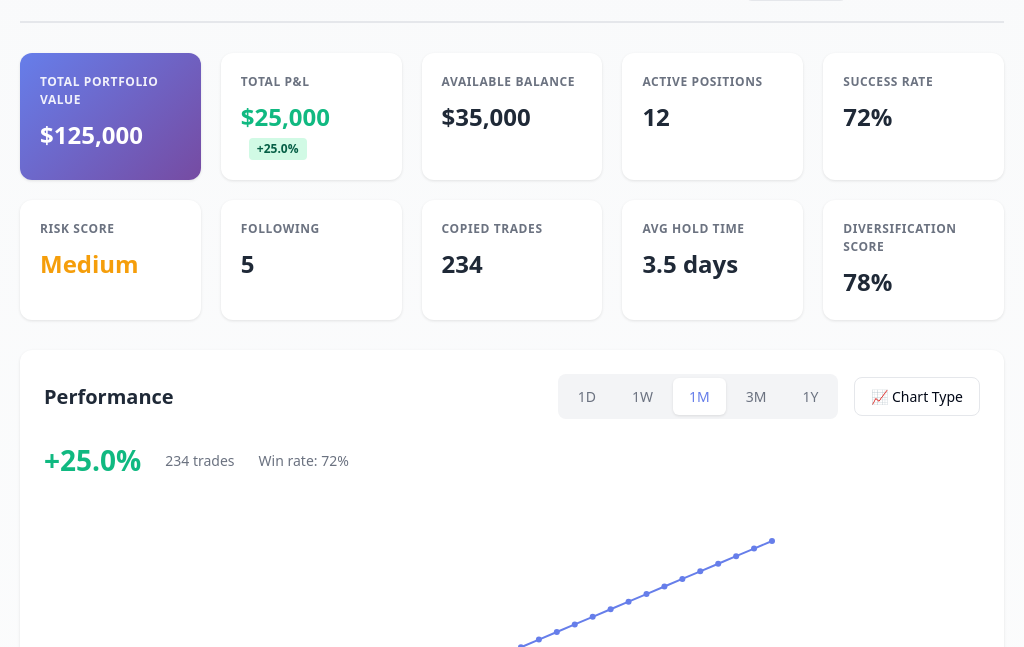
Test: PortfolioAnalytics › Filtering and Controls › should toggle between chart types
Click the button "📈 Chart Type" at [917, 396], box top-left (854, 377), bottom-right (980, 416)
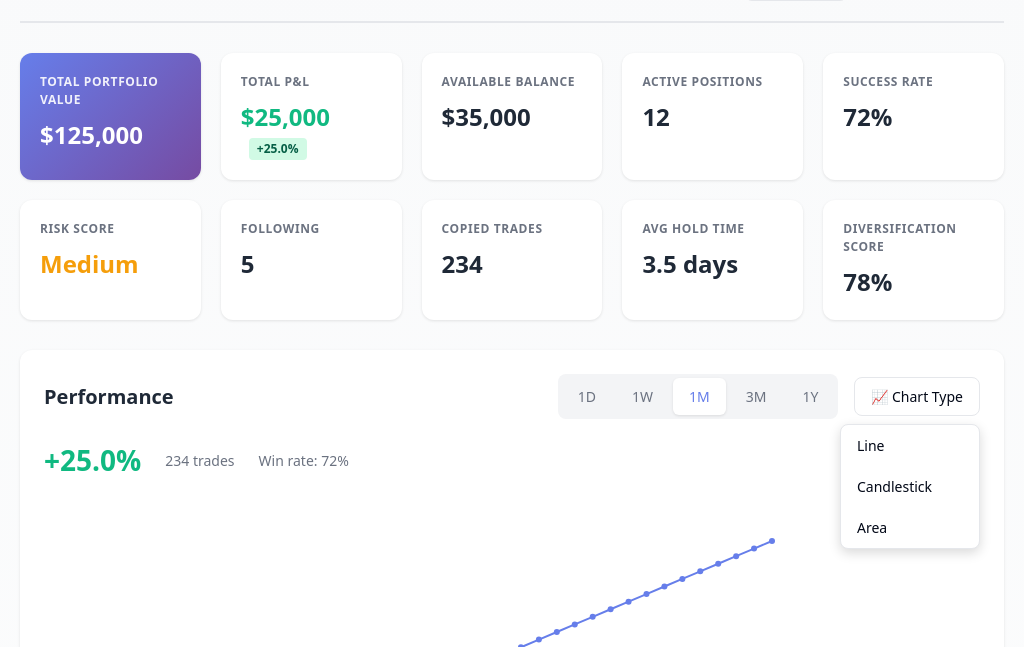
Click the button "Candlestick" at [910, 486], box top-left (841, 466), bottom-right (979, 507)
(page scrolled)
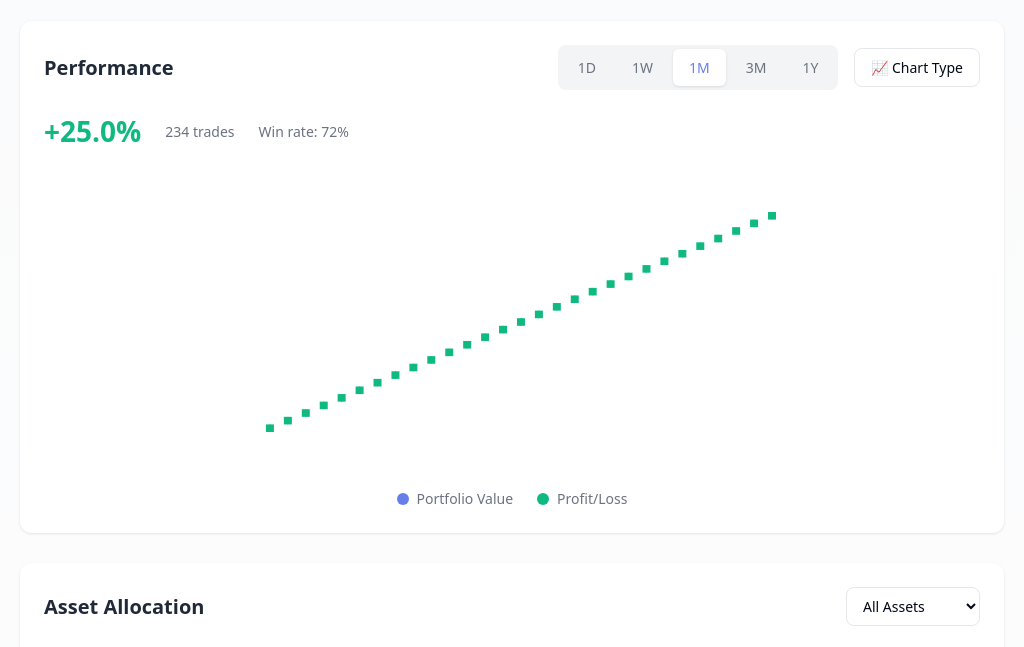
Expected: the element with test id "candlestick-chart" is shown, top-left (212, 172), bottom-right (812, 472)
